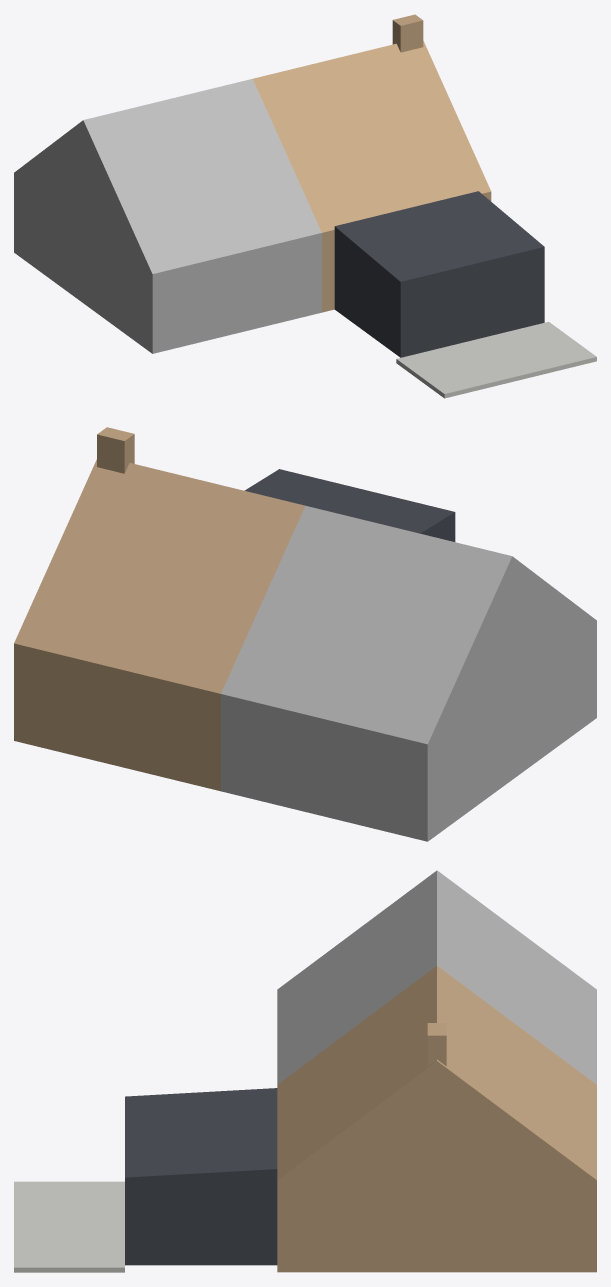
The model's file is house-extension.dae.
The picture shows the model from 3 angles, top to bottom: view 1: azimuth 30°, elevation 25°; view 2: azimuth 150°, elevation 25°; view 3: azimuth 270°, elevation 25°; orthographic projection. The views are drawn at different scales.
Parts seen in each view (by area): view 1: Adjoining dwelling, House, Extension roof, Patio, Chimney; view 2: Adjoining dwelling, House, Extension roof, Chimney; view 3: House, Adjoining dwelling, Extension roof, Patio, Chimney.
Boxes of the visible parts, x1=… form: Adjoining dwelling: x1=14, y1=79, x2=321, y2=353; House: x1=253, y1=41, x2=491, y2=312; Extension roof: x1=334, y1=191, x2=544, y2=357; Patio: x1=396, y1=321, x2=596, y2=398; Chimney: x1=392, y1=14, x2=423, y2=52; Adjoining dwelling: x1=221, y1=505, x2=596, y2=841; House: x1=14, y1=459, x2=304, y2=791; Extension roof: x1=244, y1=469, x2=455, y2=541; Chimney: x1=97, y1=427, x2=134, y2=473; House: x1=277, y1=966, x2=596, y2=1272; Adjoining dwelling: x1=277, y1=870, x2=596, y2=1084; Extension roof: x1=125, y1=1088, x2=277, y2=1265; Patio: x1=14, y1=1181, x2=124, y2=1272; Chimney: x1=427, y1=1023, x2=446, y2=1066.
Size of the model in its own units: 12 by 15.5 by 7.05.
